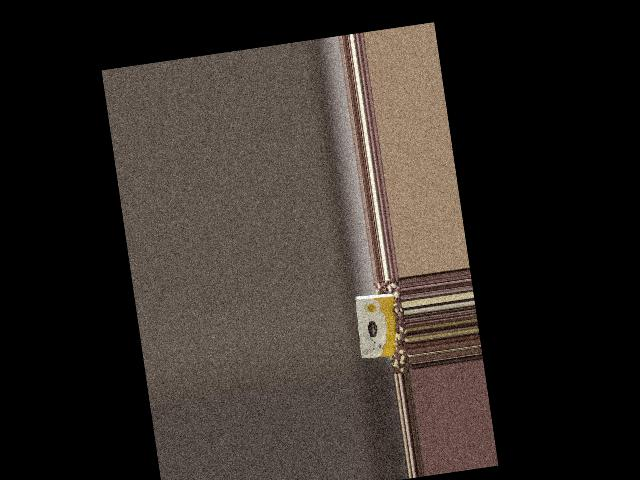chocolate: (350, 287, 405, 364)
